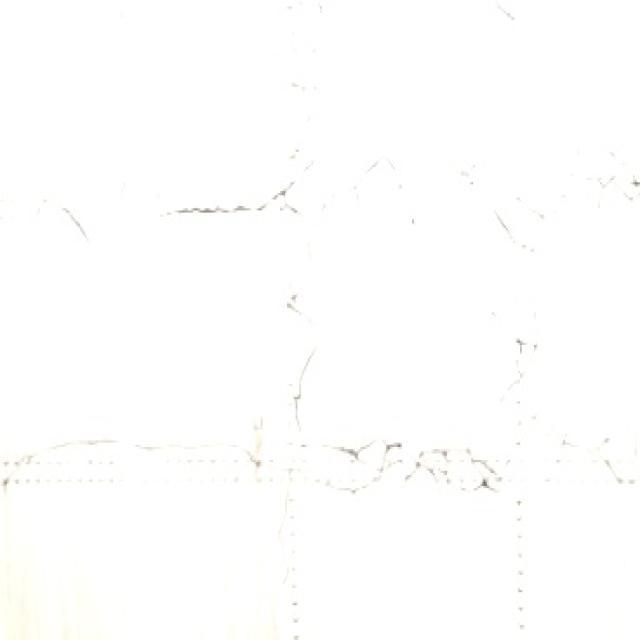crack: (292, 435, 513, 505), (161, 157, 316, 220)
